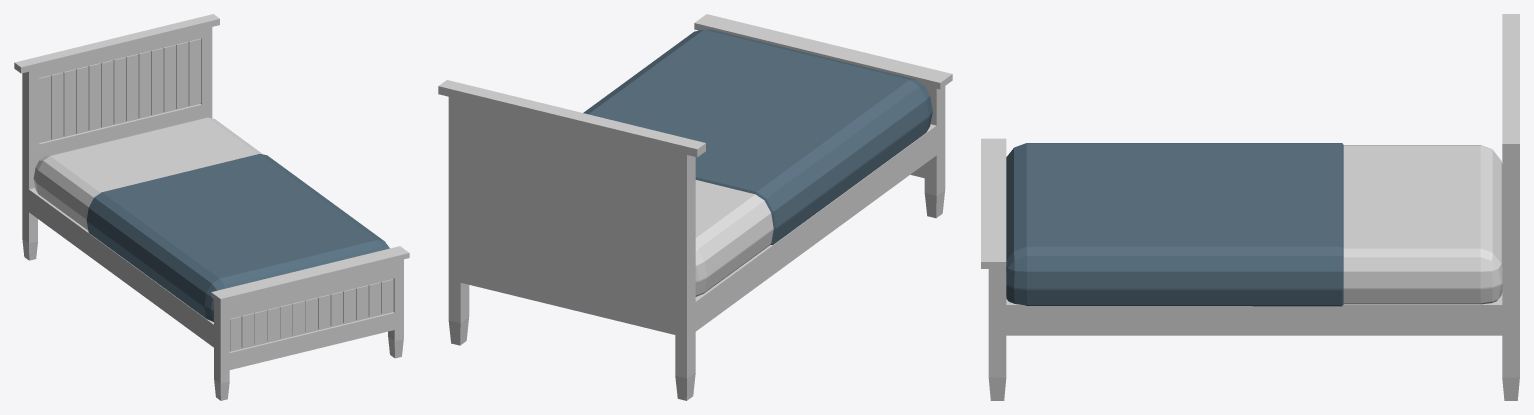
The model's file is Bedroom Bed.glb.
3 renders of one model, left to right at view 1: azimuth 30°, elevation 25°; view 2: azimuth 150°, elevation 25°; view 3: azimuth 270°, elevation 25°, orthographic. The views are drawn at different scales.
Parts seen in each view (by area): view 1: Bed; view 2: Bed; view 3: Bed.
Boxes of the visible parts, x1=… form: Bed: x1=14, y1=14, x2=409, y2=400; Bed: x1=438, y1=14, x2=952, y2=400; Bed: x1=981, y1=14, x2=1519, y2=400.
Bounding box in the file's own units: 1.36 × 1.28 × 2.37.
Materials: 1 (1 with a texture image).
